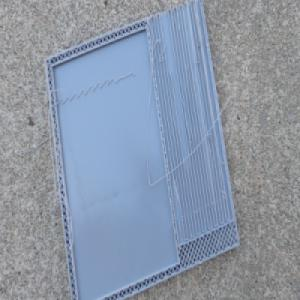PlasticPart: (43, 0, 241, 300)
